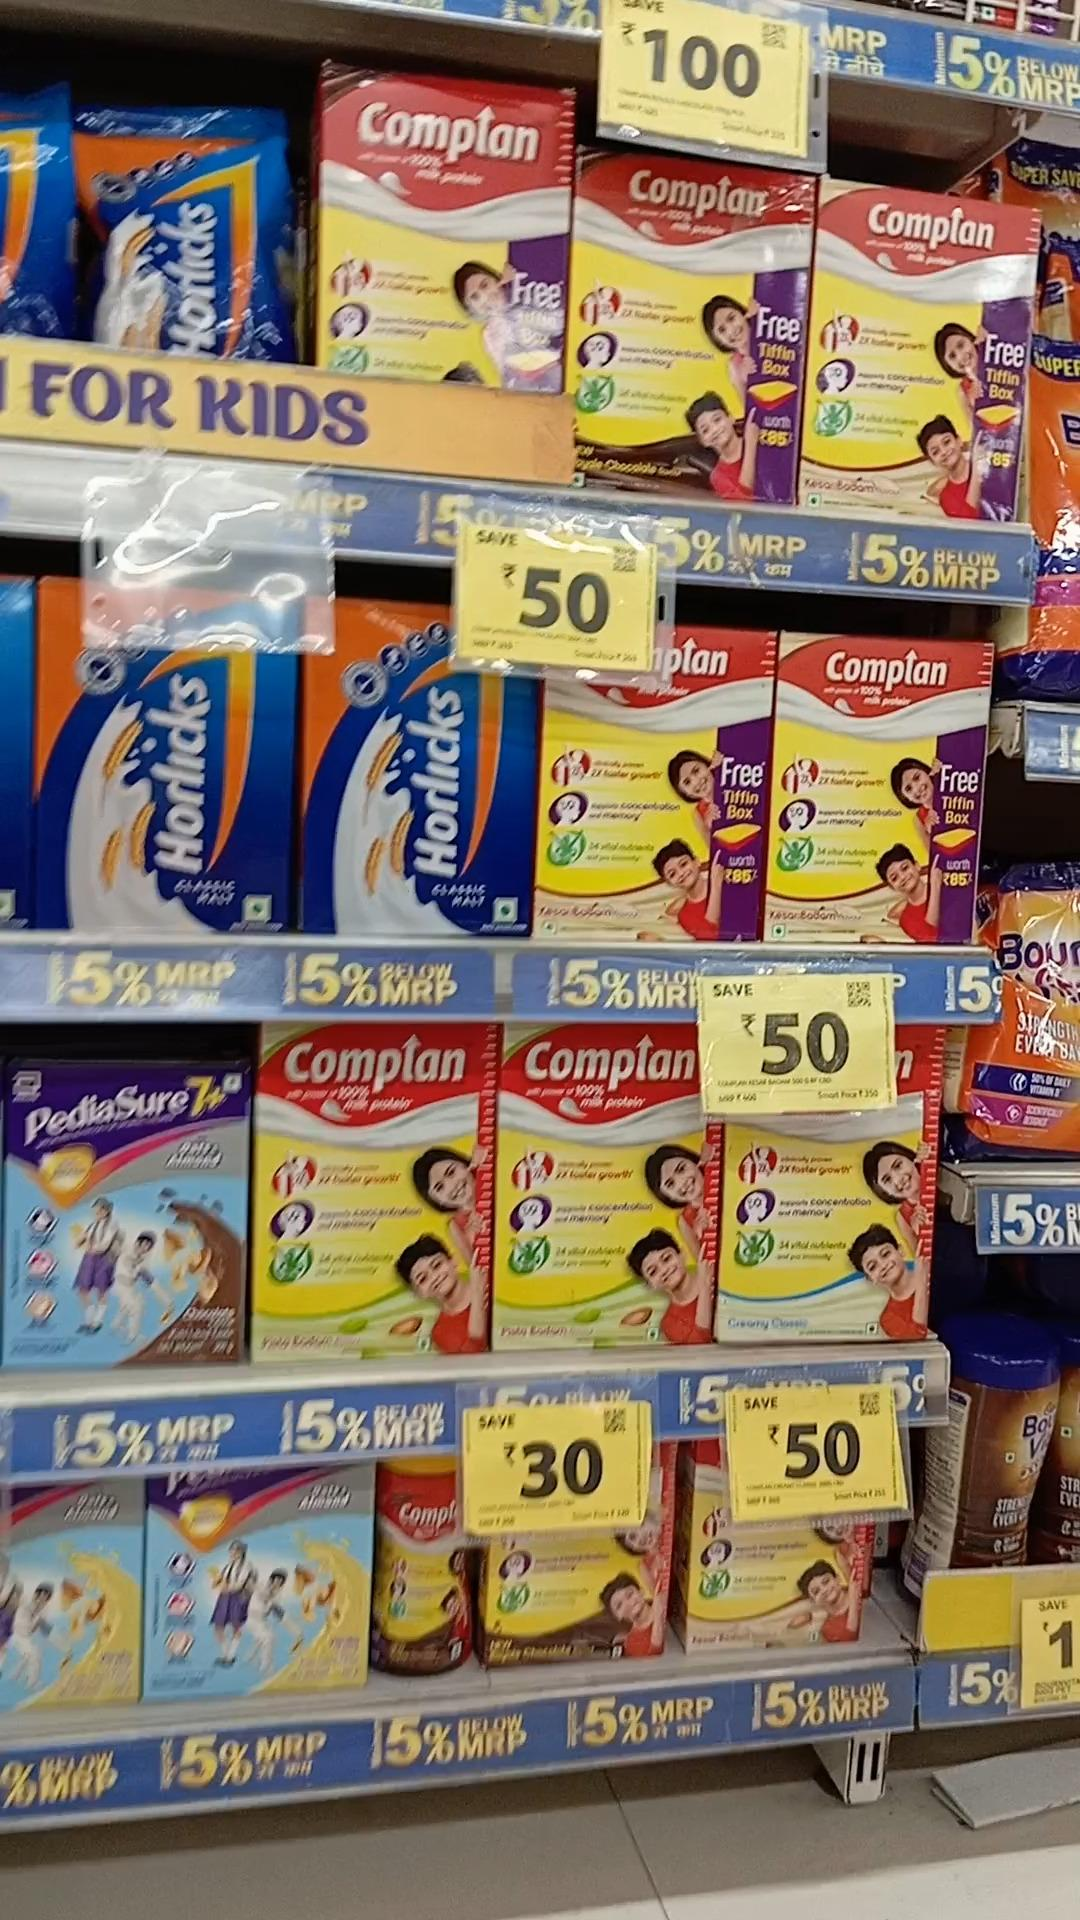COMPLAN_CHOCOLATE_200_GMS_JAR: (377, 1452, 477, 1675)
COMPLAN_CHOCOLATE_500_GMS_PACK: (314, 62, 556, 388), (575, 167, 799, 508)
COMPLAN_CREAMY_CLASSIC_500_G_PACK: (721, 1105, 938, 1342)
COMPLAN_KESAR_BADAM_500_GMS_PACK: (810, 183, 1034, 521), (542, 629, 770, 952), (775, 638, 993, 936)
COMPLAN_PISTA_BADAM_500_GMS_PACK: (253, 1021, 489, 1356), (504, 1030, 716, 1349)
HORLICK_CLASSIC_MALT_500_G_PACK: (40, 600, 295, 928), (305, 597, 533, 938)
HORLICK_CLASSIC_MALT_750_G_POUCH: (83, 104, 297, 356)
PEDIASURE_7_PLUS_CHOCOLATE_400_G_PACK: (16, 1054, 244, 1366)
